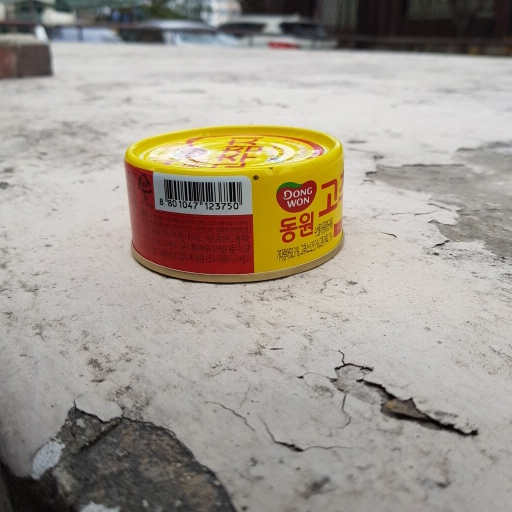Metal_1: (122, 124, 348, 286)
